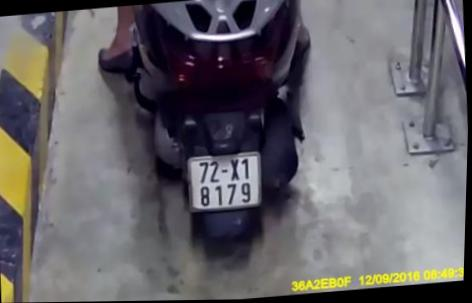LP: (187, 151, 264, 213)
